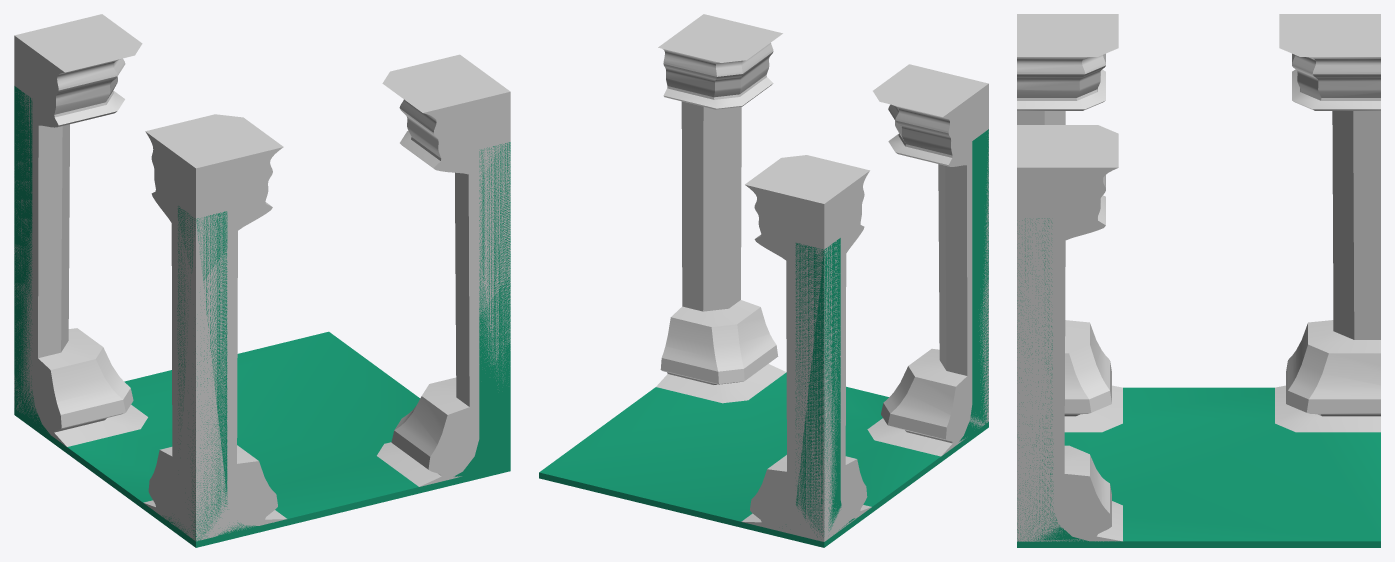
File: Tileset_Piece_87.fbx
The picture shows the model from 3 angles, left to right: view 1: azimuth 30°, elevation 25°; view 2: azimuth 150°, elevation 25°; view 3: azimuth 270°, elevation 25°; orthographic projection. The views are drawn at different scales.
Visible parts, largest first — view 1: Tileset_Piece_87; view 2: Tileset_Piece_87; view 3: Tileset_Piece_87.
Part boxes in pixels (x1,y1,x2,y2): Tileset_Piece_87: (14, 14, 510, 547); Tileset_Piece_87: (539, 14, 988, 547); Tileset_Piece_87: (1017, 14, 1380, 547).
Size of the model in its own units: 100 by 115 by 100.
